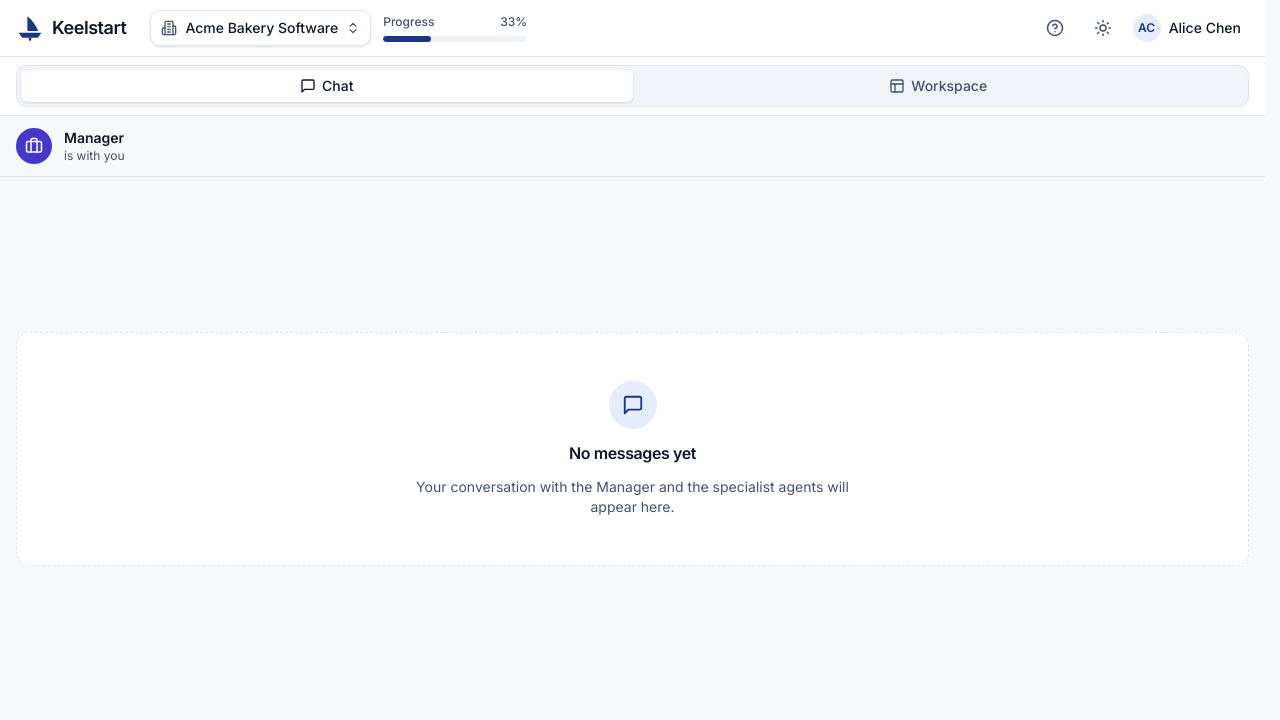
workspace (ADR-0019, ADR-0035) › on phones switches between Chat and Workspace
The width and height of the screenshot is (1280, 720).
Check: the radio button labelled "Chat" is checked, box left=21, top=70, right=632, bottom=102
Click the radio button labelled "Workspace" at (938, 86), box left=632, top=70, right=1244, bottom=102
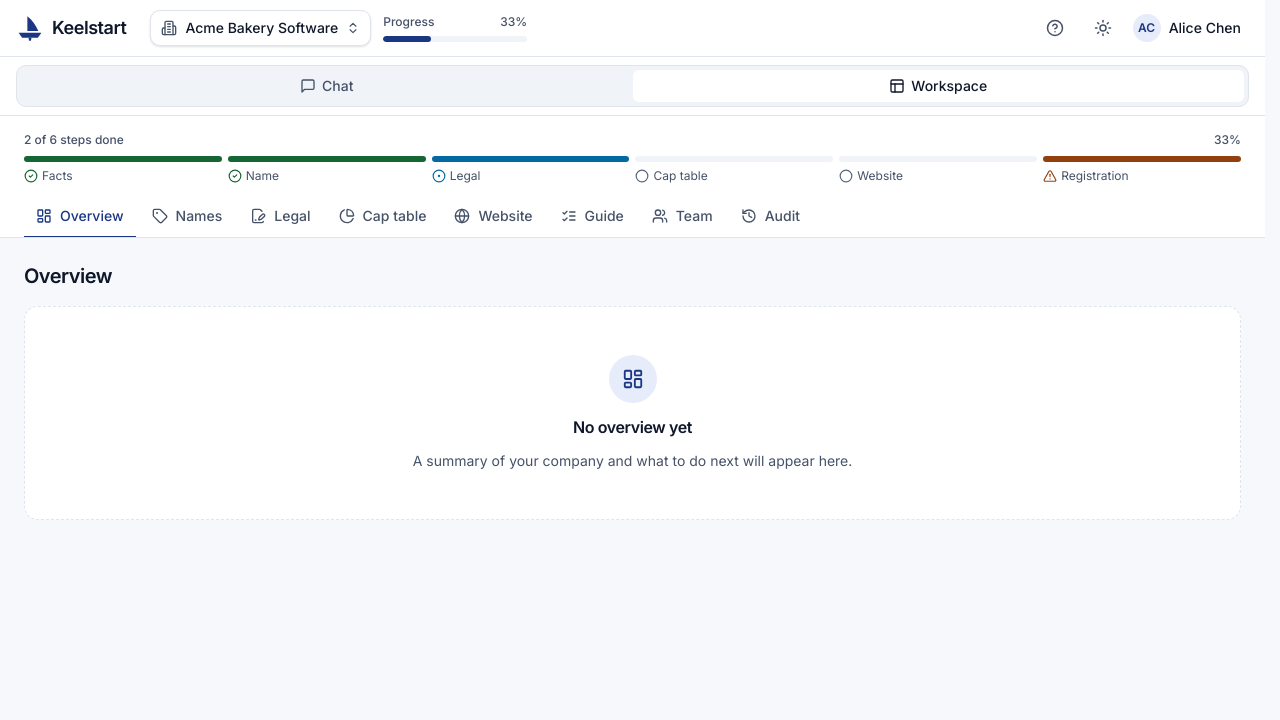
Check: the element named "Workspace" is shown
